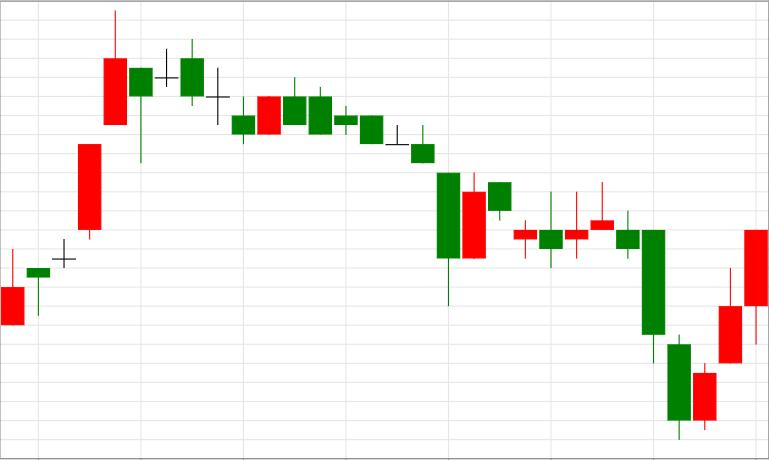hanging_man_fall: (1, 11, 152, 326)
three_white_soldiers_rise: (591, 182, 767, 441)
